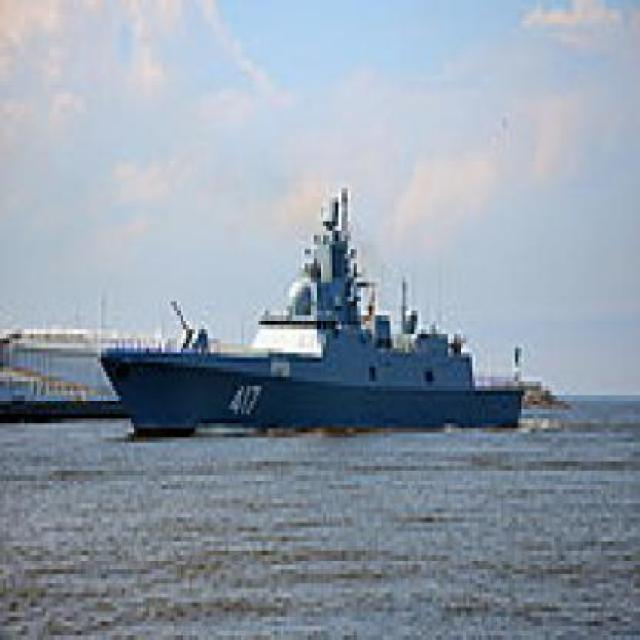warship2: (99, 166, 543, 458)
